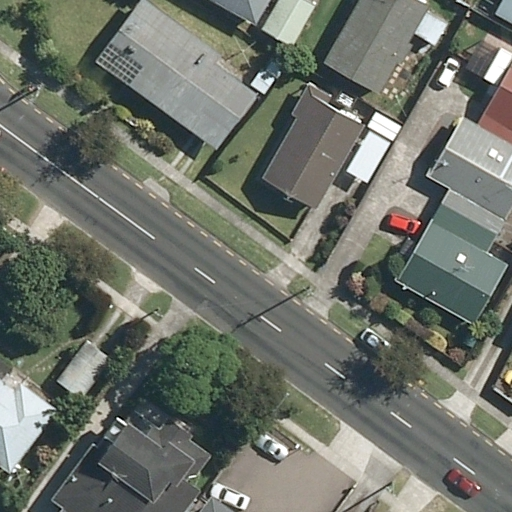DT: (148, 304, 168, 323), (301, 282, 318, 300)
